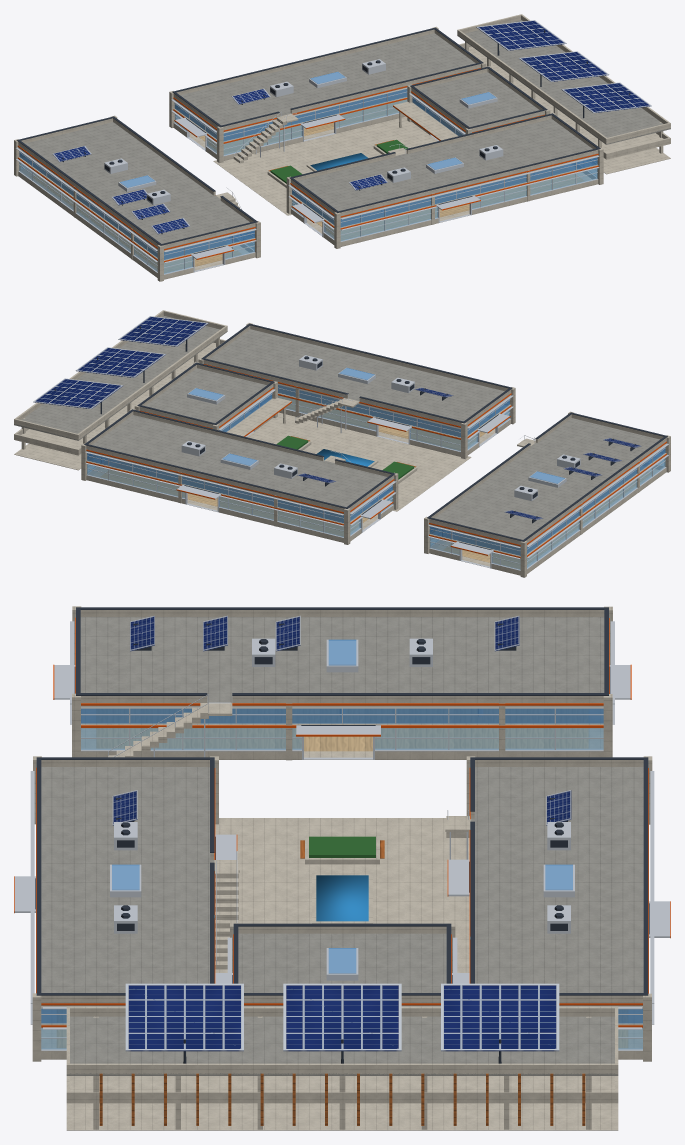
Rendered from landmark_charleston_campus.glb.
3 views of the same model, one above another, from view 1: azimuth 30°, elevation 25°; view 2: azimuth 150°, elevation 25°; view 3: azimuth 270°, elevation 25° (orthographic). The views are drawn at different scales.
Parts seen in each view (by area): view 1: CharlCampus_roof, CharlCampus_conc, CharlCampus_alum, CharlCampus_solar, CharlCampus_floor_oak, CharlCampus_glass_up, CharlCampus_dark, CharlCampus_glass_lo, CharlCampus_plaza, CharlCampus_accent, CharlCampus_floor_conc, CharlCampus_int_wall (+2 smaller); view 2: CharlCampus_roof, CharlCampus_conc, CharlCampus_alum, CharlCampus_floor_oak, CharlCampus_glass_up, CharlCampus_dark, CharlCampus_solar, CharlCampus_glass_lo, CharlCampus_plaza, CharlCampus_accent, CharlCampus_floor_conc, CharlCampus_int_wall (+1 smaller); view 3: CharlCampus_roof, CharlCampus_conc, CharlCampus_solar, CharlCampus_alum, CharlCampus_plaza, CharlCampus_floor_conc, CharlCampus_dark, CharlCampus_floor_oak, CharlCampus_glass_up, CharlCampus_glass_lo, CharlCampus_accent, CharlCampus_cedar (+3 smaller).
Boxes of the visible parts, left/top/right/bottom form: CharlCampus_roof: left=18, top=20, right=670, bottom=250; CharlCampus_conc: left=14, top=14, right=670, bottom=281; CharlCampus_alum: left=16, top=59, right=599, bottom=274; CharlCampus_solar: left=53, top=20, right=651, bottom=234; CharlCampus_floor_oak: left=33, top=89, right=583, bottom=272; CharlCampus_glass_up: left=19, top=72, right=597, bottom=259; CharlCampus_dark: left=16, top=27, right=630, bottom=253; CharlCampus_glass_lo: left=19, top=99, right=597, bottom=273; CharlCampus_plaza: left=213, top=116, right=437, bottom=215; CharlCampus_accent: left=17, top=68, right=598, bottom=262; CharlCampus_floor_conc: left=26, top=116, right=670, bottom=270; CharlCampus_int_wall: left=18, top=87, right=597, bottom=252; CharlCampus_roof: left=14, top=316, right=666, bottom=546; CharlCampus_conc: left=14, top=310, right=670, bottom=577; CharlCampus_alum: left=85, top=355, right=668, bottom=570; CharlCampus_floor_oak: left=101, top=385, right=651, bottom=568; CharlCampus_glass_up: left=87, top=368, right=665, bottom=555; CharlCampus_dark: left=54, top=323, right=667, bottom=549; CharlCampus_solar: left=33, top=316, right=641, bottom=519; CharlCampus_glass_lo: left=87, top=395, right=665, bottom=569; CharlCampus_plaza: left=247, top=412, right=471, bottom=511; CharlCampus_accent: left=86, top=364, right=666, bottom=558; CharlCampus_floor_conc: left=14, top=412, right=658, bottom=573; CharlCampus_int_wall: left=86, top=383, right=666, bottom=548; CharlCampus_roof: left=41, top=617, right=643, bottom=1075; CharlCampus_conc: left=32, top=606, right=652, bottom=1129; CharlCampus_solar: left=112, top=615, right=571, bottom=1051; CharlCampus_alum: left=14, top=621, right=670, bottom=1050; CharlCampus_plaza: left=215, top=818, right=469, bottom=972; CharlCampus_floor_conc: left=42, top=709, right=642, bottom=1130; CharlCampus_dark: left=35, top=607, right=649, bottom=1063; CharlCampus_floor_oak: left=57, top=709, right=627, bottom=1047; CharlCampus_glass_up: left=41, top=639, right=642, bottom=1023; CharlCampus_glass_lo: left=41, top=728, right=642, bottom=1049; CharlCampus_accent: left=14, top=617, right=670, bottom=1027; CharlCampus_cedar: left=99, top=840, right=585, bottom=1125.
Bounding box in the file's own units: 111 × 10.22 × 66.68.
17 materials, 7 textured.
